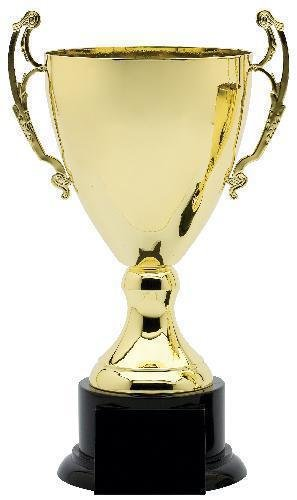trophy: (6, 9, 294, 497)
